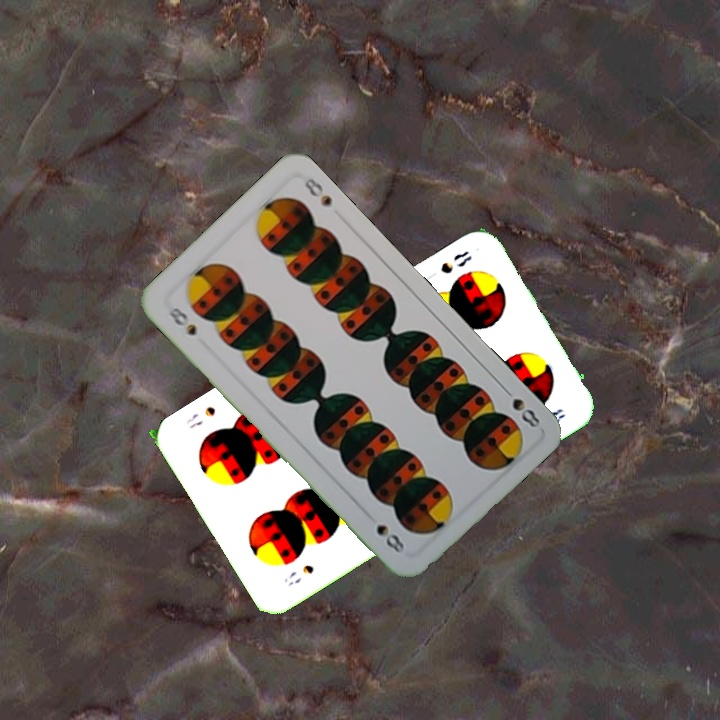S8: (497, 382, 543, 431), (164, 298, 199, 339), (436, 246, 475, 277), (279, 560, 317, 589)
